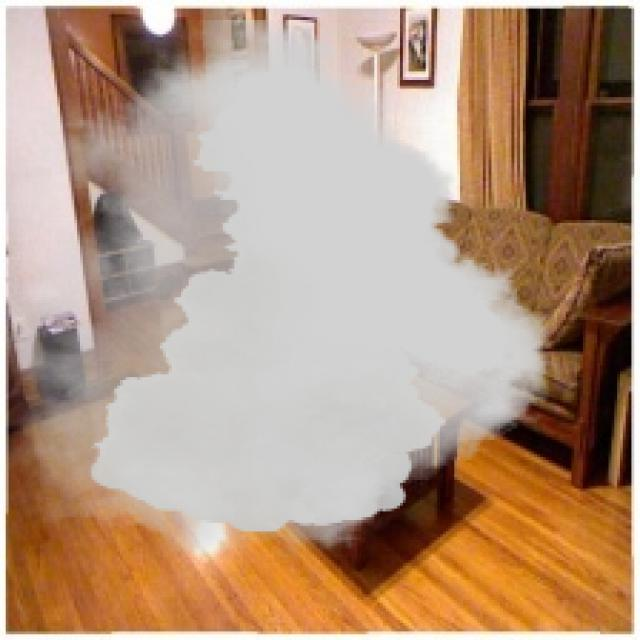smoke: (9, 20, 548, 557)
